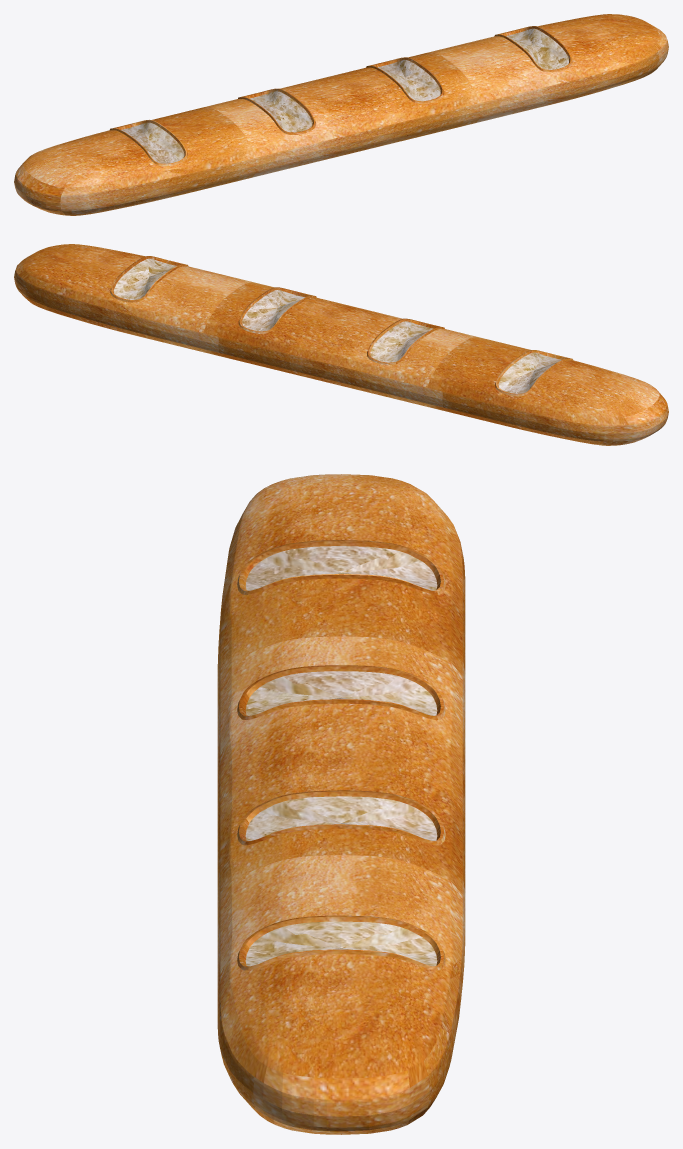
File: baguette.obj
3 views of the same model, one above another, from view 1: azimuth 30°, elevation 25°; view 2: azimuth 150°, elevation 25°; view 3: azimuth 270°, elevation 25° (orthographic). The views are drawn at different scales.
Size of the model in its own units: 8.29 by 0.7004 by 1.39.
Materials: 2 (2 with a texture image).
